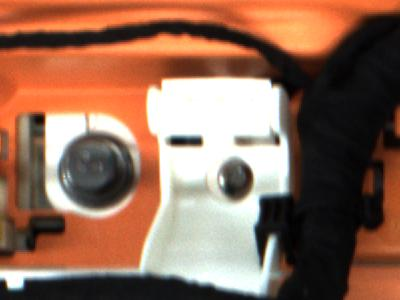nut_b: (54, 127, 138, 214)
